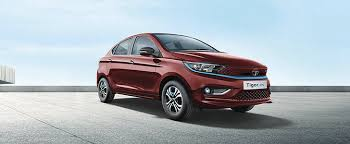Tiago: (93, 30, 273, 120)
